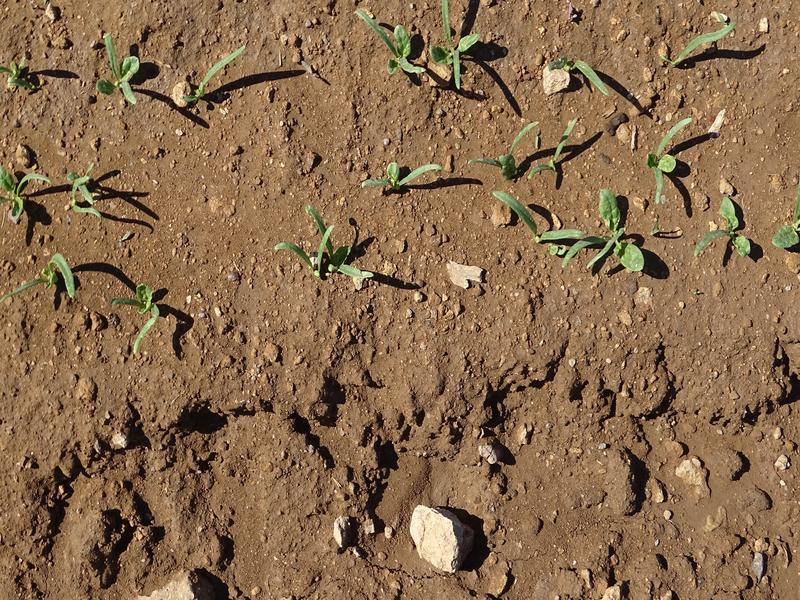Espinaca: (488, 184, 648, 279), (352, 6, 474, 95), (276, 209, 376, 289), (476, 110, 576, 182), (97, 32, 156, 111), (356, 151, 447, 201), (642, 124, 690, 201), (12, 251, 83, 302), (698, 199, 752, 264), (124, 282, 166, 360), (191, 35, 243, 94), (64, 171, 105, 229), (2, 165, 40, 222), (560, 58, 614, 96)
